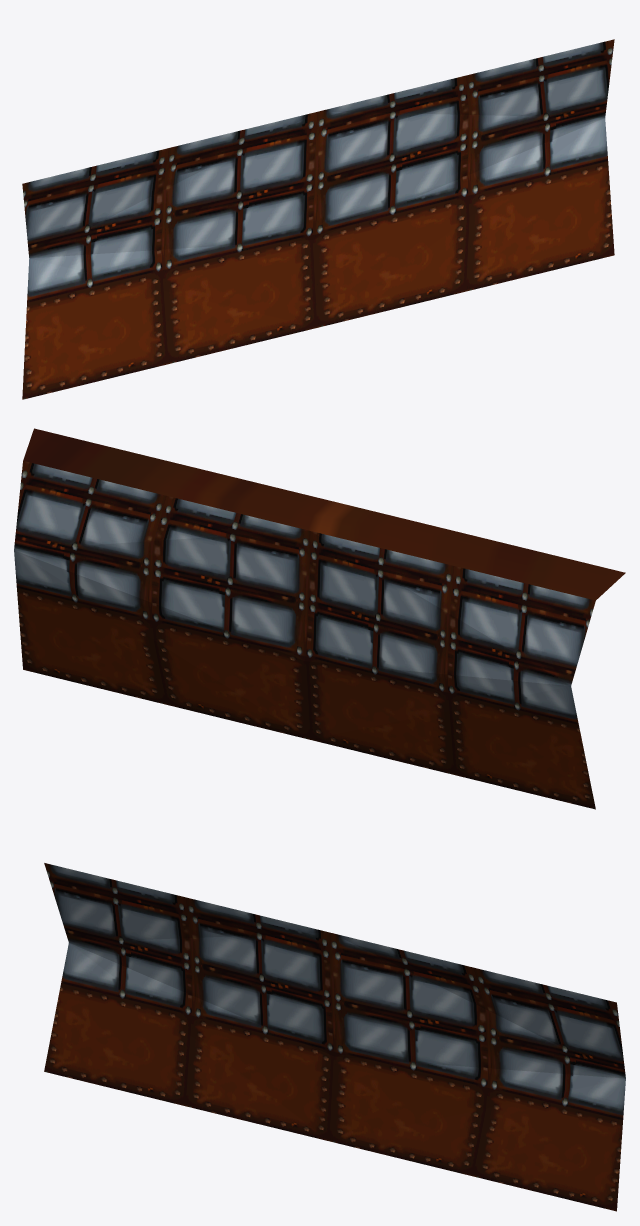
File: W_A2l_xxxx [BraunesGlas]_871.glb
3 views of the same model, one above another, from view 1: azimuth 30°, elevation 25°; view 2: azimuth 150°, elevation 25°; view 3: azimuth 330°, elevation 25° (orthographic). The views are drawn at different scales.
Visible parts, largest first — view 1: polySurfaceShape787; view 2: polySurfaceShape787, polySurfaceShape1065; view 3: polySurfaceShape787.
Part boxes in pixels (<box>): polySurfaceShape787: <box>22,39,614,399</box>; polySurfaceShape787: <box>14,461,595,809</box>; polySurfaceShape1065: <box>23,428,625,600</box>; polySurfaceShape787: <box>44,863,625,1211</box>.
Bounding box in the file's own units: 1.03 × 0.3891 × 0.0607.
2 materials, 2 textured.
